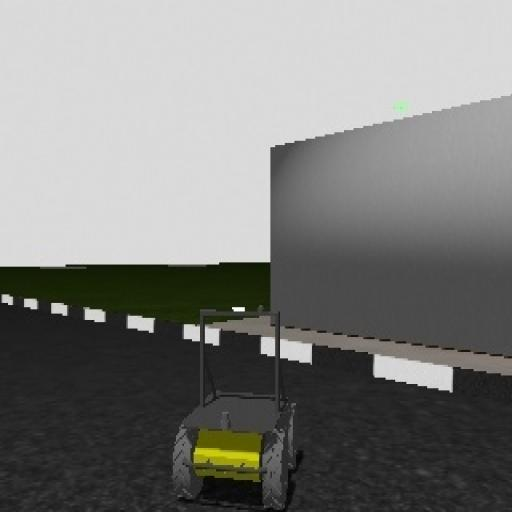huskya200: (147, 290, 309, 512)
